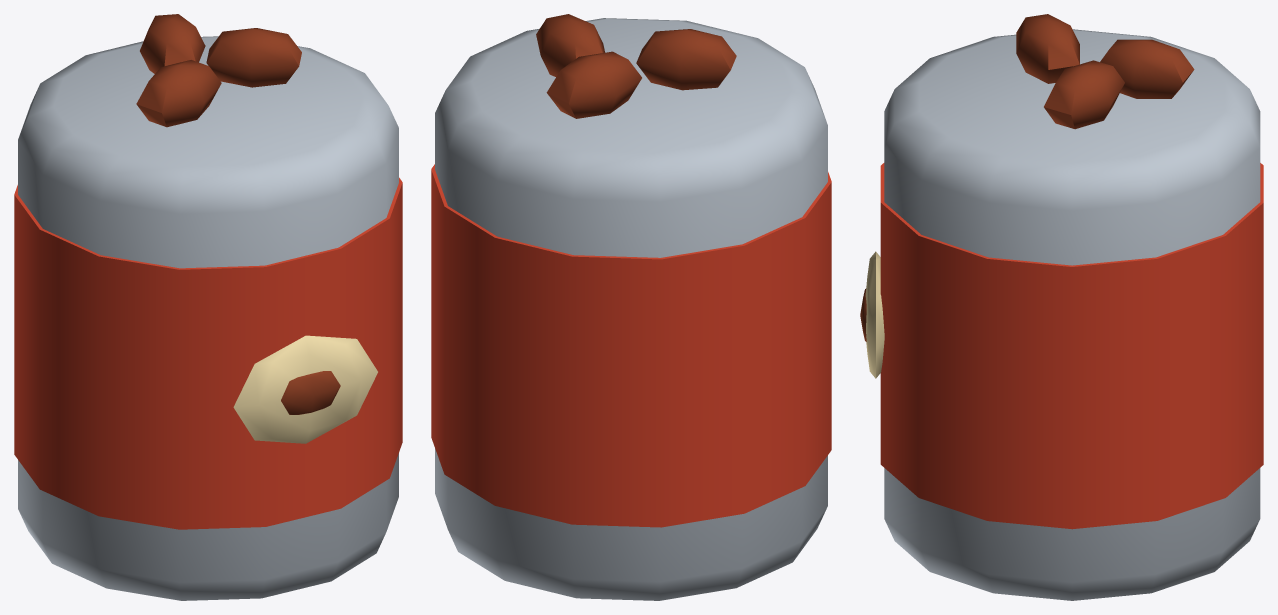
File: P01_Beans.fbx
3 views of the same model, side by side, from view 1: azimuth 30°, elevation 25°; view 2: azimuth 150°, elevation 25°; view 3: azimuth 270°, elevation 25° (orthographic). The views are drawn at different scales.
Visible parts, largest first — view 1: P01_Beans; view 2: P01_Beans; view 3: P01_Beans.
Boxes of the visible parts, <box> form: P01_Beans: <box>14,14,402,600</box>; P01_Beans: <box>431,14,831,600</box>; P01_Beans: <box>860,14,1263,600</box>.
Bounding box in the file's own units: 0.326 × 0.451 × 0.3349.
